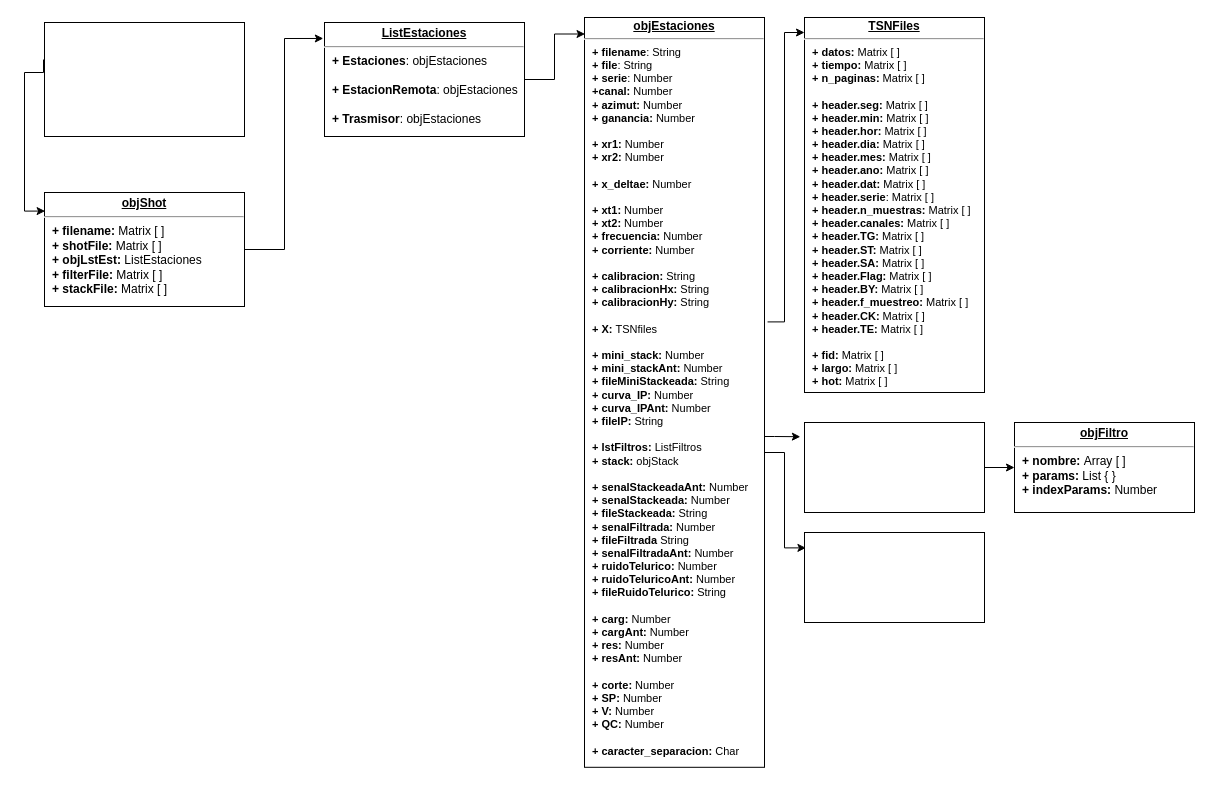
Some shapes in this 1212 by 785 pixel diagram are drawn without their labels. The centre of each missing label's shape, as x and y in pixels:
ListFiltros + filtros: Array de objFiltro [ ] + indice: Number: the point at 894,467
ListShot + filename: Array objShot{ } + indice: Number + filename: String: the point at 144,79
objStack + nombre: Array [ ] + params: List { } + indexParams: Number: the point at 894,577
